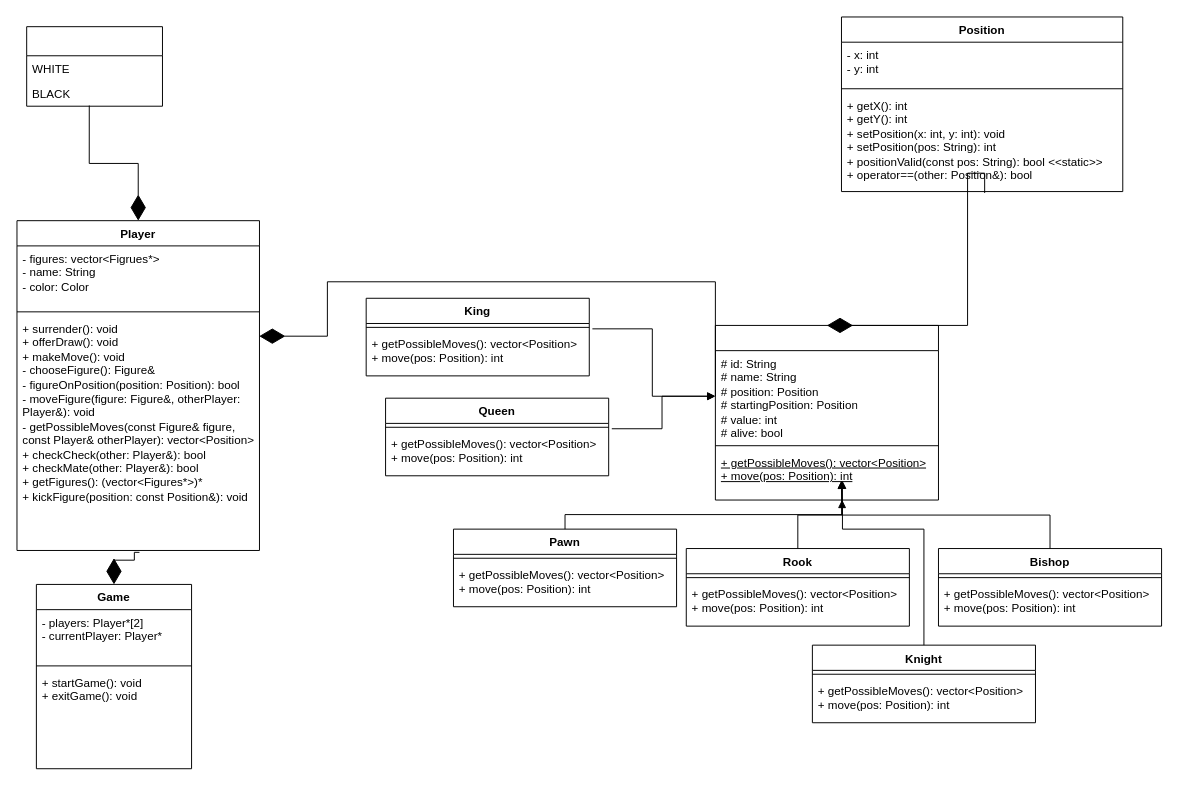
Some shapes in this 1179 by 789 pixel diagram are drawn without their labels. Here are the shapes that lost their labels. From the top down, the box of each, then its label:
(26, 26, 162, 106): <<enumeration>> Color
(714, 324, 938, 500): Figure
